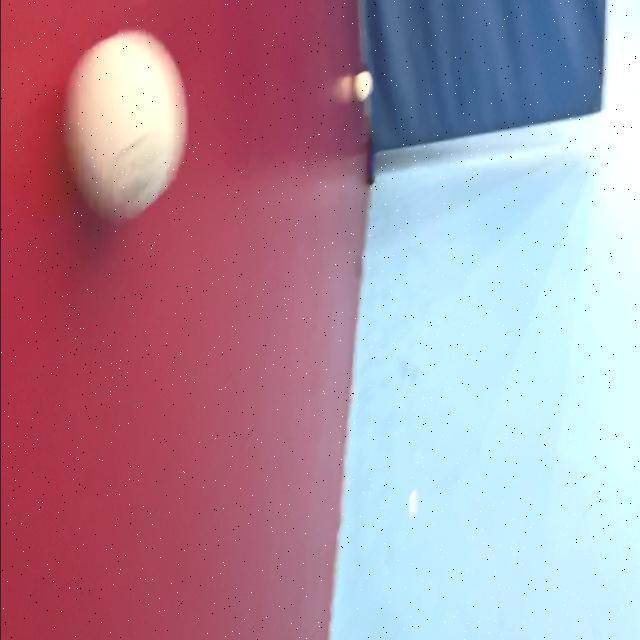ping-pong-ball: (40, 17, 196, 240), (348, 58, 380, 106)
